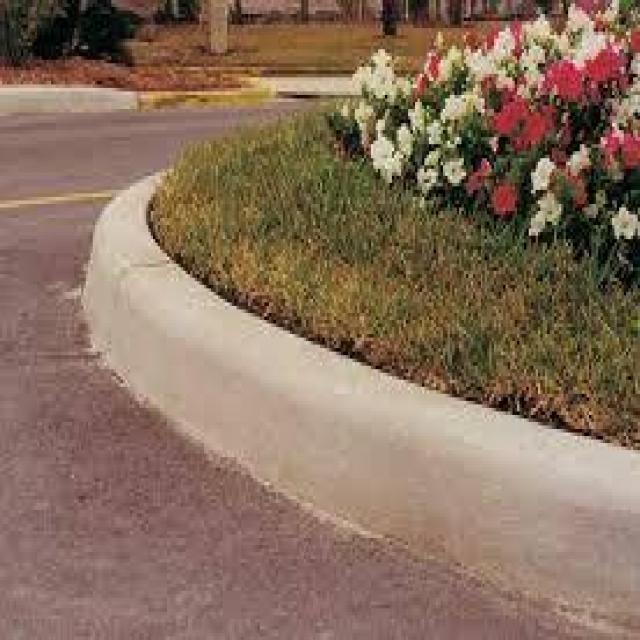bump: (209, 287, 635, 618)
